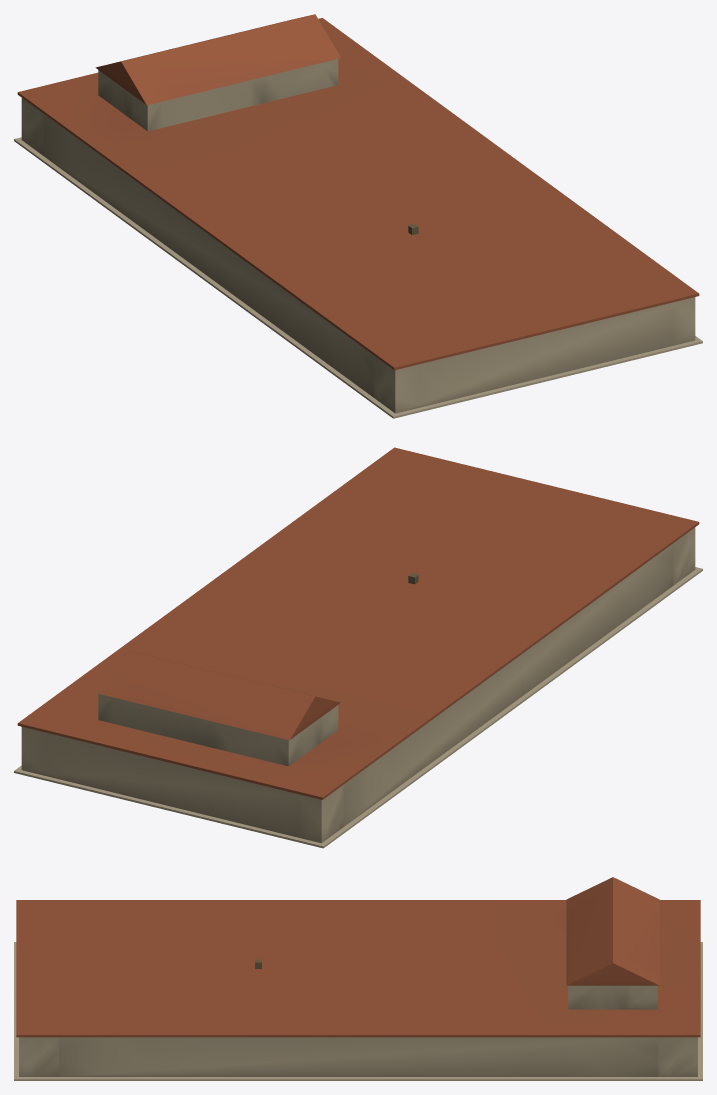
The model's file is stoa-basilica.glb.
3 renders of one model, top to bottom at view 1: azimuth 30°, elevation 25°; view 2: azimuth 150°, elevation 25°; view 3: azimuth 270°, elevation 25°, orthographic. The views are drawn at different scales.
Visible parts, largest first — view 1: p1_colonnade, p0_court, p2_hall; view 2: p1_colonnade, p0_court, p2_hall; view 3: p1_colonnade, p0_court, p2_hall.
Part boxes in pixels (x1,y1,x2,y2): p1_colonnade: (17, 18, 699, 370); p0_court: (14, 98, 702, 418); p2_hall: (95, 14, 418, 235); p1_colonnade: (17, 447, 699, 799); p0_court: (14, 527, 702, 848); p2_hall: (95, 573, 418, 766); p1_colonnade: (16, 900, 700, 1037); p0_court: (14, 942, 702, 1080); p2_hall: (255, 877, 659, 1009).
Bounding box in the file's own units: 65 × 20.4 × 138.
